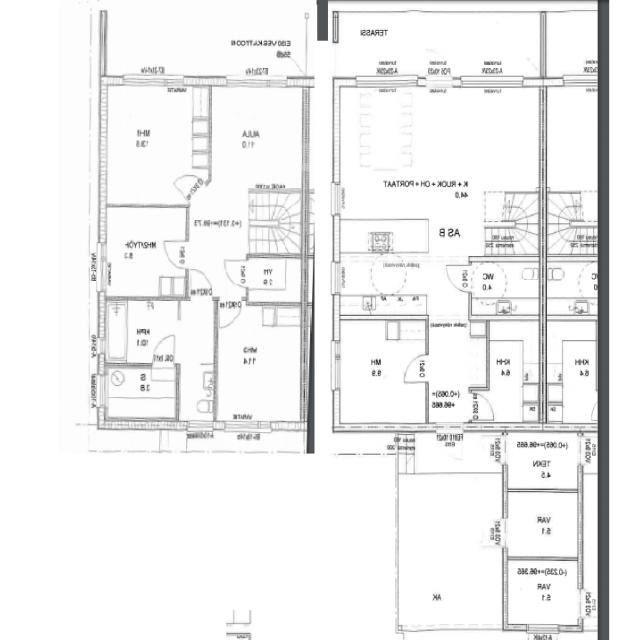door: (173, 164, 207, 205), (436, 423, 462, 464), (427, 46, 452, 87), (478, 517, 508, 547), (478, 436, 508, 466), (403, 354, 429, 382), (163, 241, 188, 269), (219, 296, 241, 327), (468, 393, 493, 420), (190, 270, 212, 300), (152, 337, 174, 367), (224, 260, 249, 286), (447, 265, 471, 291)
